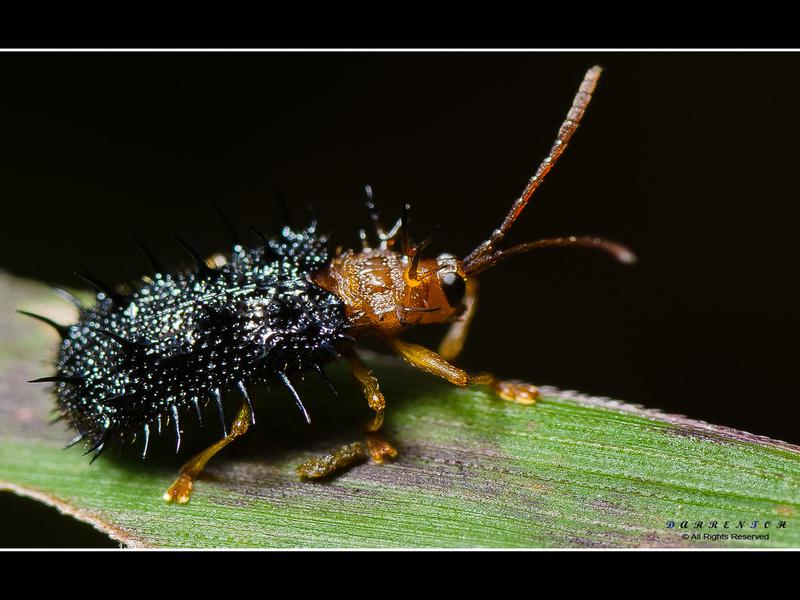Spiny_beetle: (45, 207, 522, 494)
